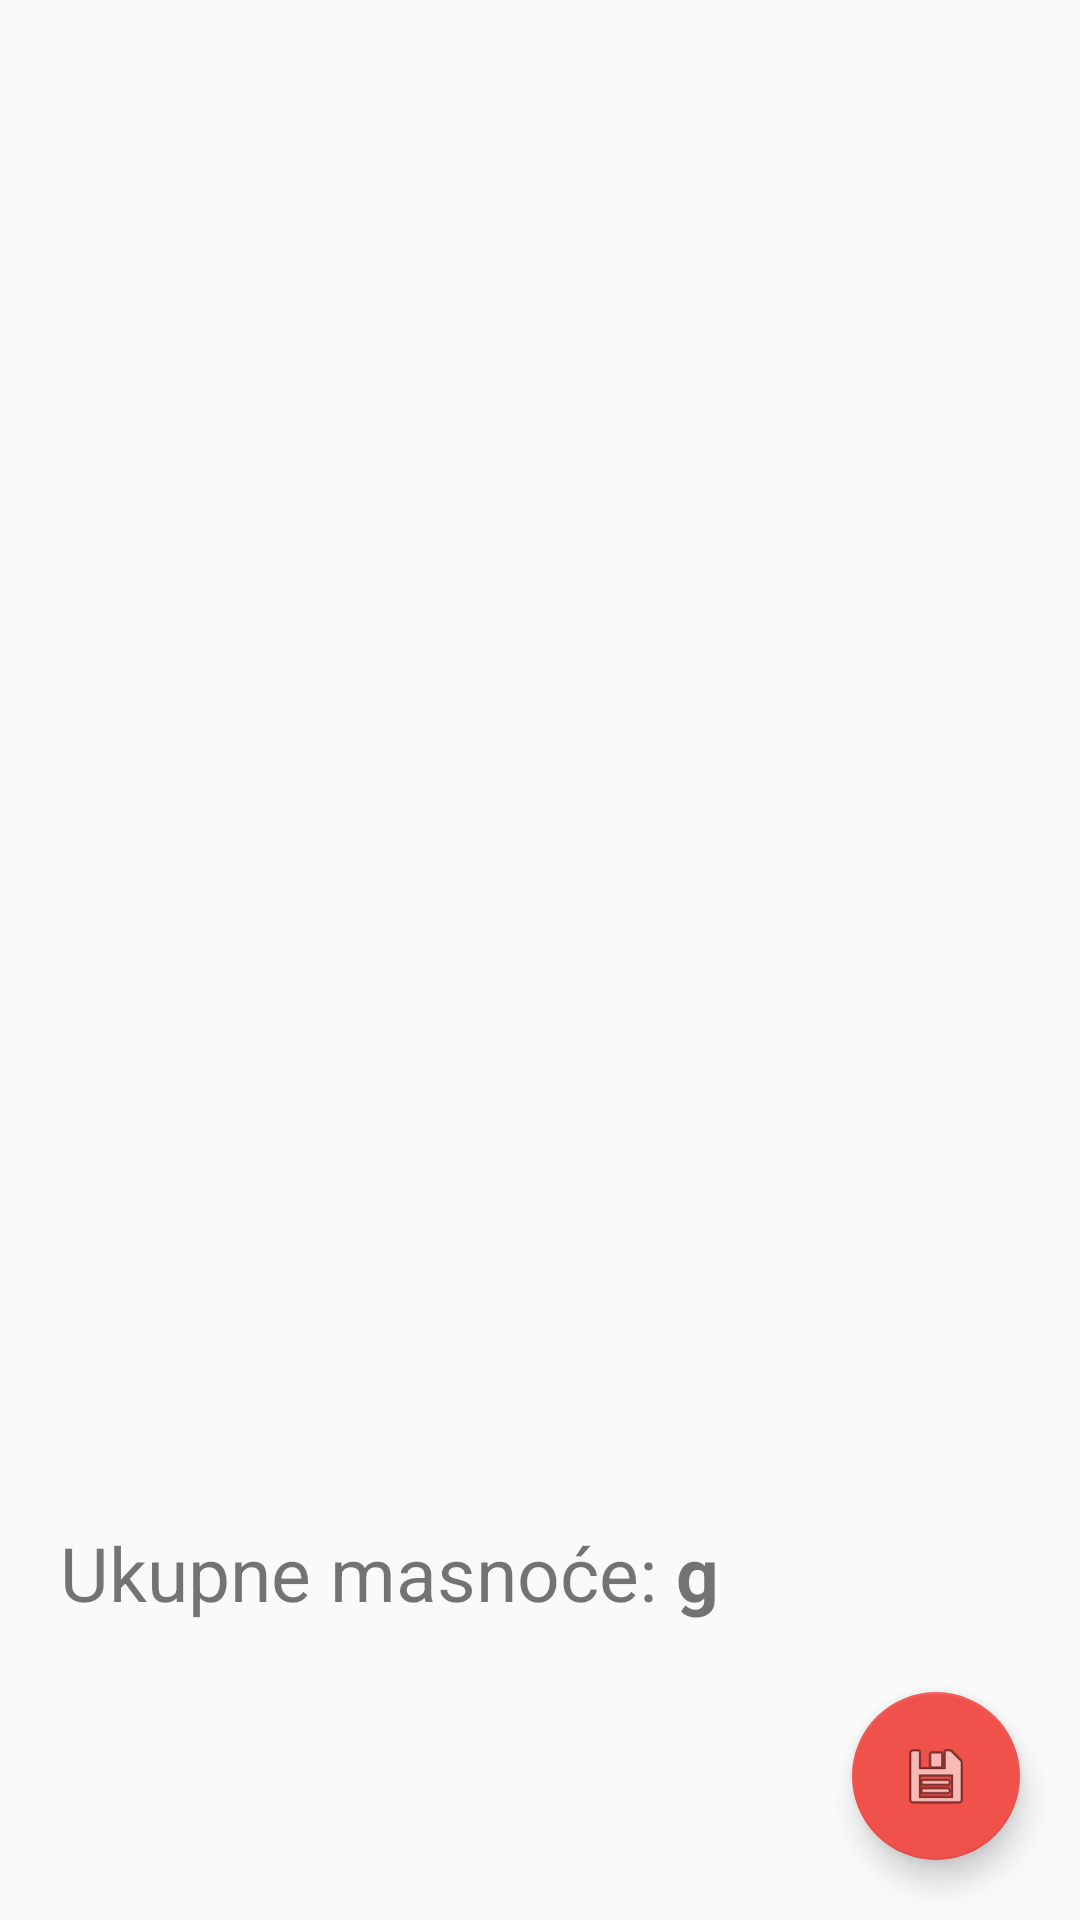

Screen size 1080*1920. Icon name, then its center in pixels as (x,y):
save: (936,1776)
